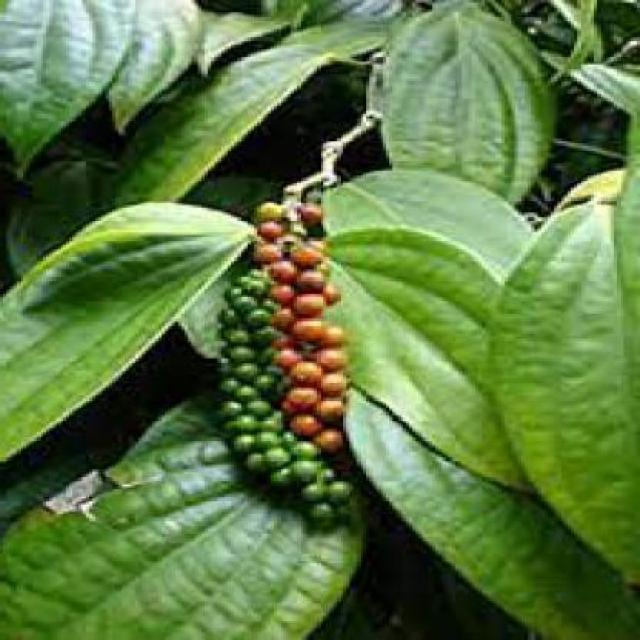RIPE: (294, 183, 343, 440)
UNRIPE: (214, 269, 294, 462)
